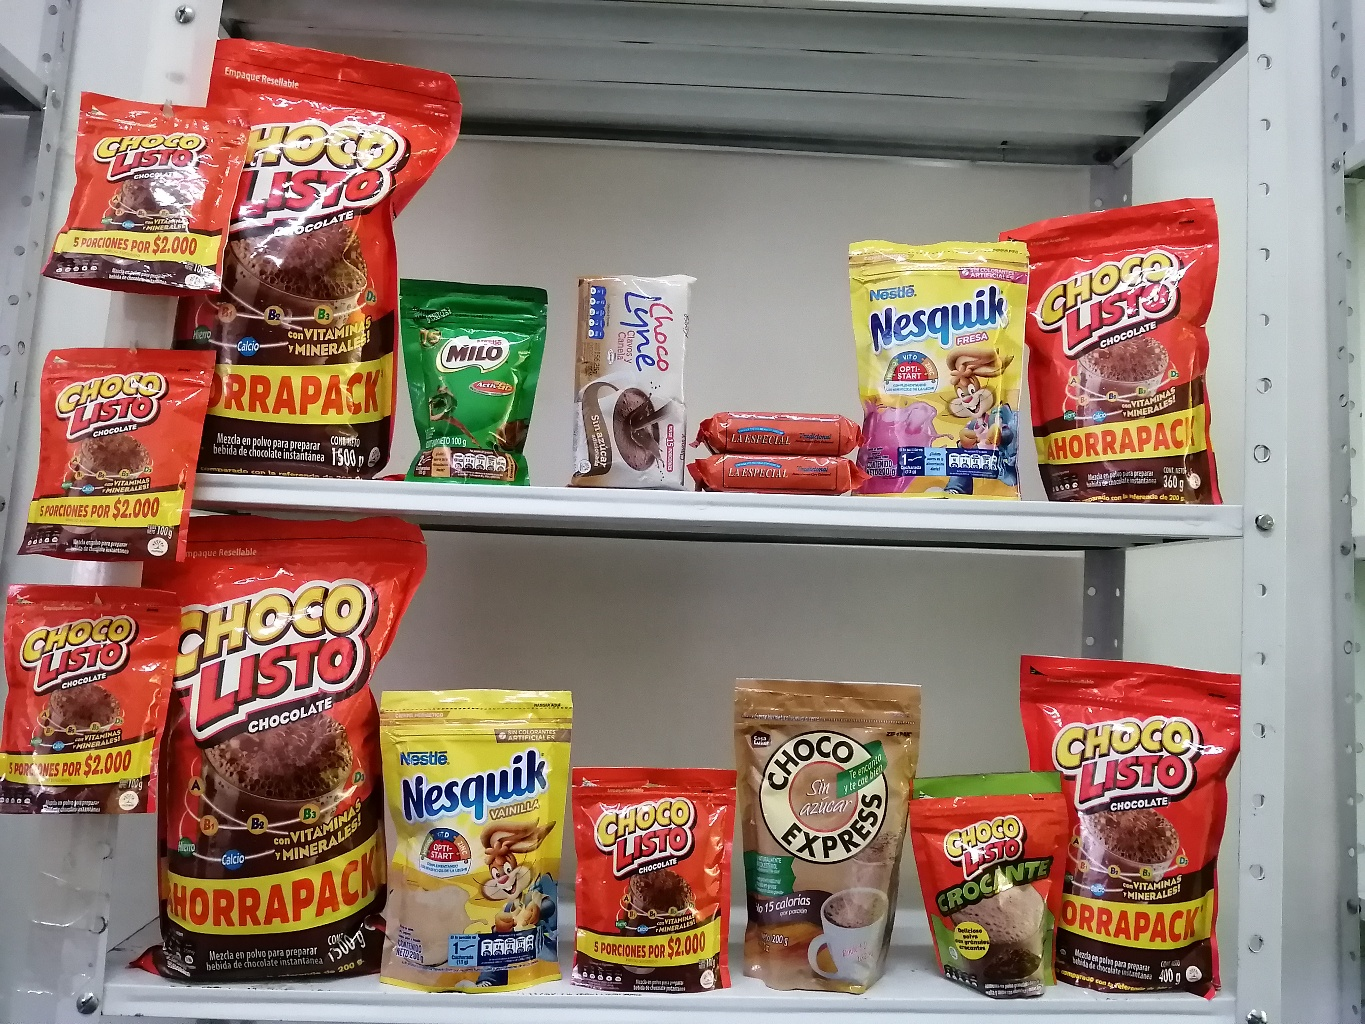COL0170102DYP10000: (912, 769, 1072, 1006)
COL0170103DYP1,500: (196, 26, 456, 474)
COL0170103DYP10000: (577, 754, 736, 1001)
COL0170103DYP36000: (1016, 196, 1224, 504)
COL0170103DYP40000: (1021, 639, 1231, 1001)
COL0170203DYP10000: (402, 271, 551, 492)
COL0170305DYP20000: (856, 221, 1037, 497)
COL0170306DYP20000: (366, 689, 577, 994)
